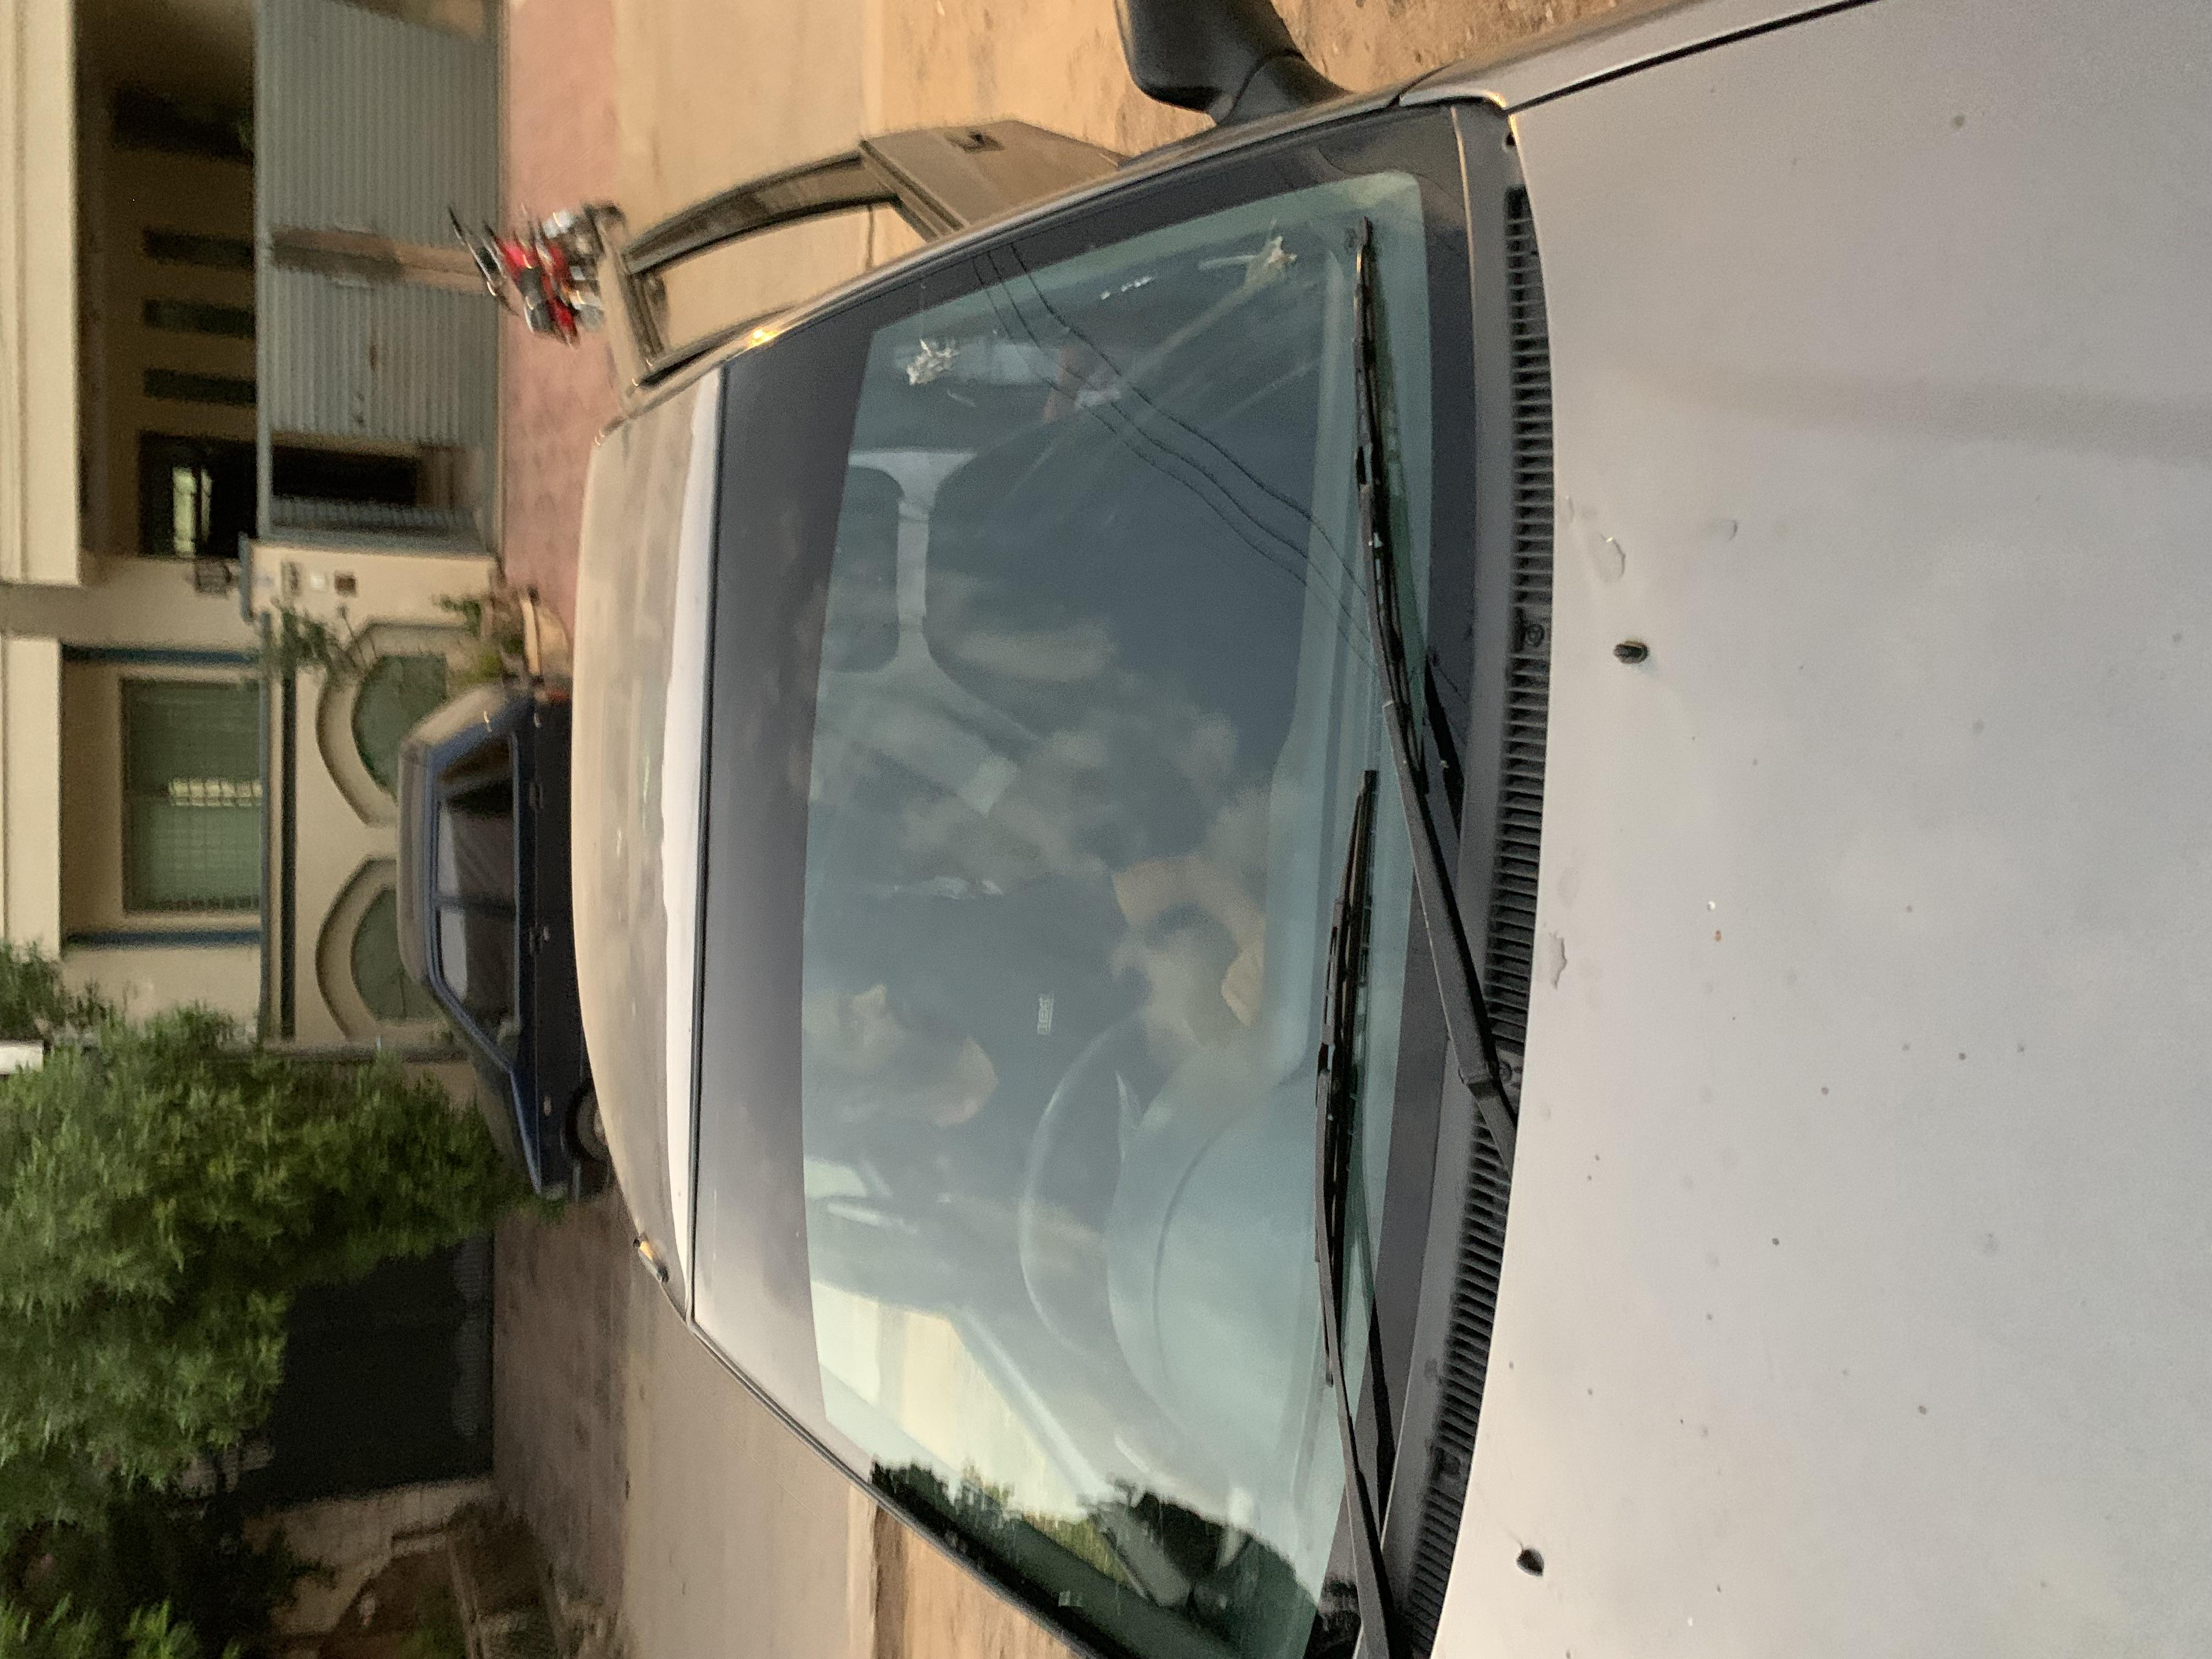windshield: (0, 519, 2085, 1131)
